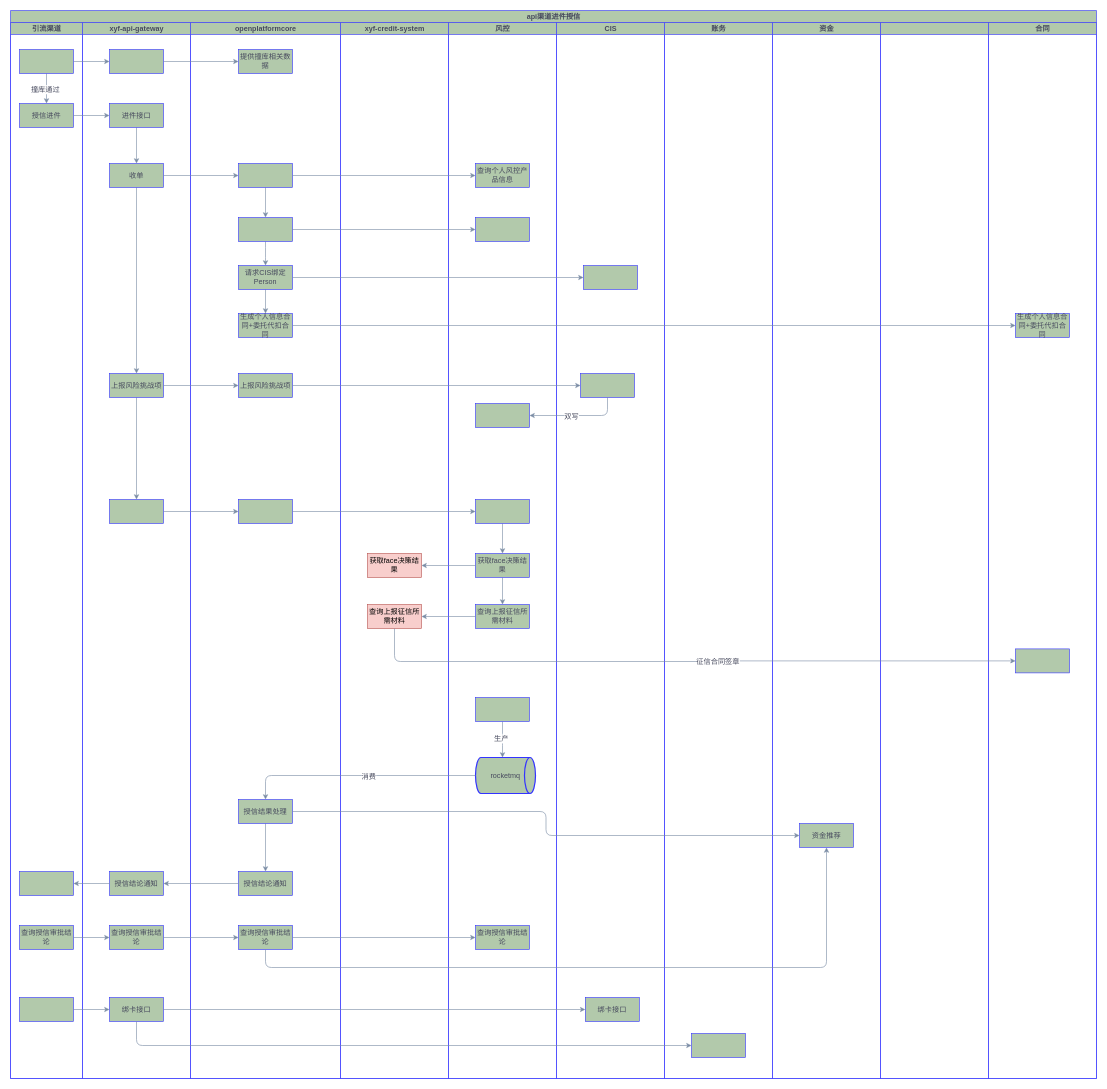
This 1107x1089 diagram has some shape labels left out. Each missing label, with the centre of its shape:
上报风险挑战项接口: the point at 607,385
二一致、三一致校验: the point at 265,229
二一致、三一致校验接口: the point at 502,229
发起授信: the point at 502,511
发起授信申请: the point at 265,511
合同签章: the point at 1042,660
授信结果通知: the point at 502,709
接收授信结论: the point at 46,883
撞库决策: the point at 136,61
支付: the point at 934,550
收单接口: the point at 265,175
激活: the point at 136,511
绑卡: the point at 46,1009
绑定Person: the point at 610,277
请求撞库: the point at 46,61
账务开户: the point at 718,1045
风险挑战项: the point at 502,415
